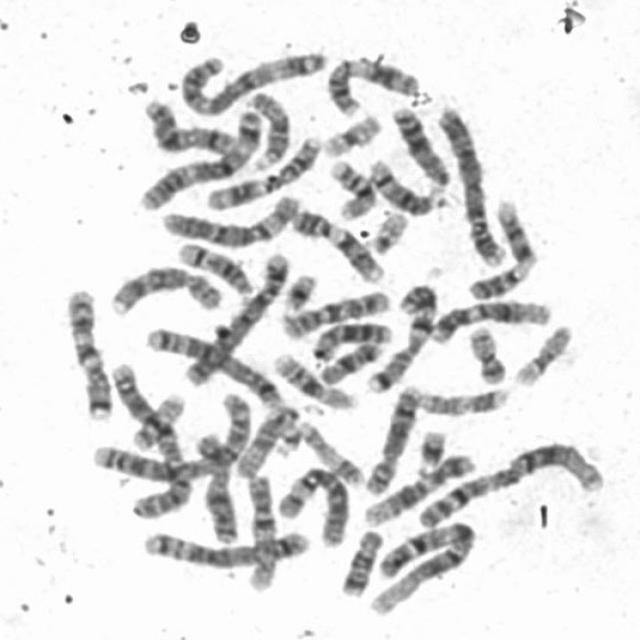A1: (409, 433, 609, 531), (362, 512, 480, 618)
A2: (86, 385, 256, 484), (102, 354, 195, 522)
A3: (132, 102, 266, 212), (170, 40, 330, 117)
B4: (176, 244, 294, 387), (429, 97, 508, 269)
B5: (139, 318, 286, 408), (136, 522, 314, 569)
C10: (273, 282, 392, 341), (239, 466, 281, 594)
C11: (198, 128, 324, 211), (320, 47, 424, 117)
C12: (356, 445, 478, 528), (424, 290, 555, 346)
C6: (153, 186, 305, 248), (270, 457, 352, 549)
C7: (359, 275, 442, 394), (57, 279, 115, 421)
C8: (358, 375, 426, 497), (103, 257, 226, 318)
C9: (461, 190, 543, 302), (282, 199, 388, 284)
D13: (384, 97, 453, 194), (304, 313, 395, 366)
D14: (169, 234, 256, 297), (361, 150, 440, 217)
D15: (227, 398, 303, 480), (240, 84, 294, 172)
E16: (263, 344, 359, 411), (322, 150, 378, 220)
E17: (292, 412, 367, 487), (410, 378, 512, 418)
E18: (333, 522, 385, 598), (312, 333, 385, 386)
F19: (506, 316, 577, 389), (315, 106, 384, 158)
F20: (124, 385, 189, 452), (462, 317, 509, 385)
G21: (274, 265, 321, 314), (409, 422, 450, 475)
G22: (362, 201, 412, 255), (259, 399, 304, 458)
X: (135, 91, 238, 157), (187, 424, 240, 544)
